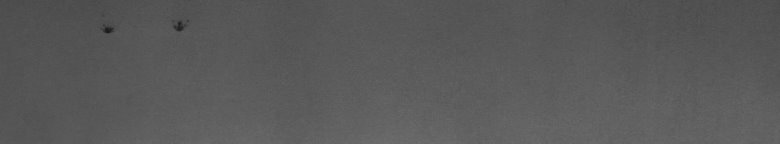fi: (100, 16, 189, 40)
